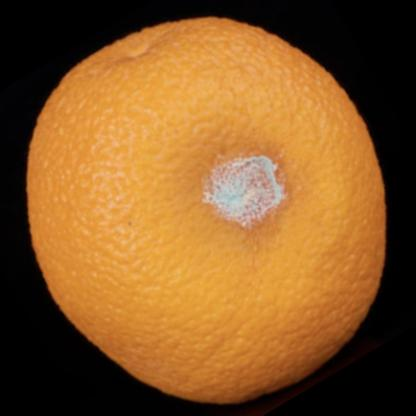rotten: (27, 18, 387, 406)
